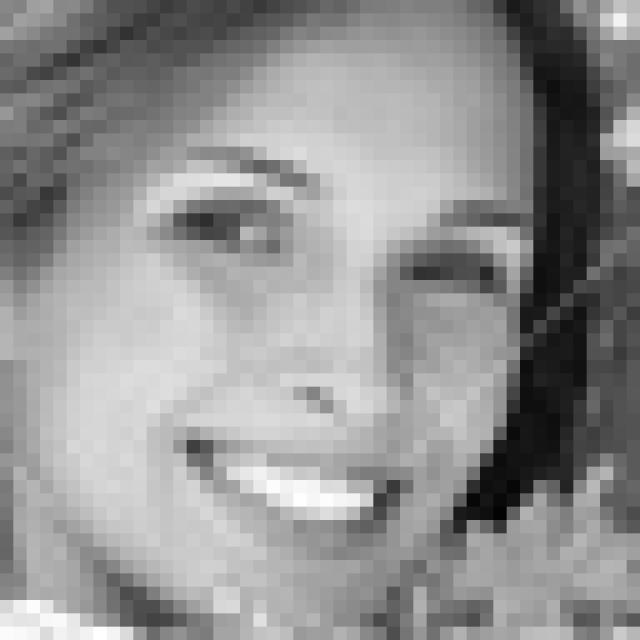happy: (112, 137, 517, 570)
